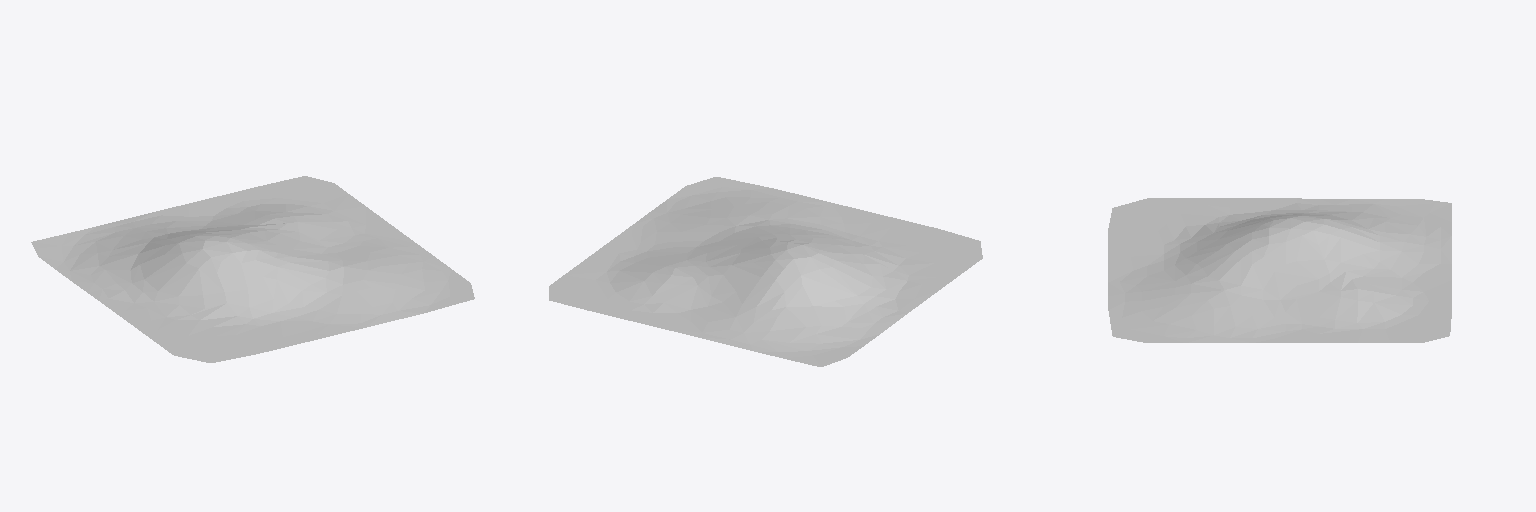
The model's file is SandHill1_BM.obj.
3 views of the same model, side by side, from view 1: azimuth 30°, elevation 25°; view 2: azimuth 150°, elevation 25°; view 3: azimuth 270°, elevation 25° (orthographic).
Parts seen in each view (by area): view 1: Col_Mesh.001; view 2: Col_Mesh.001; view 3: Col_Mesh.001.
Part boxes in pixels (bbox=[...]): Col_Mesh.001: bbox=[31, 176, 474, 362]; Col_Mesh.001: bbox=[549, 177, 982, 366]; Col_Mesh.001: bbox=[1108, 198, 1451, 342].
Bounding box in the file's own units: 10 × 1.01 × 10.